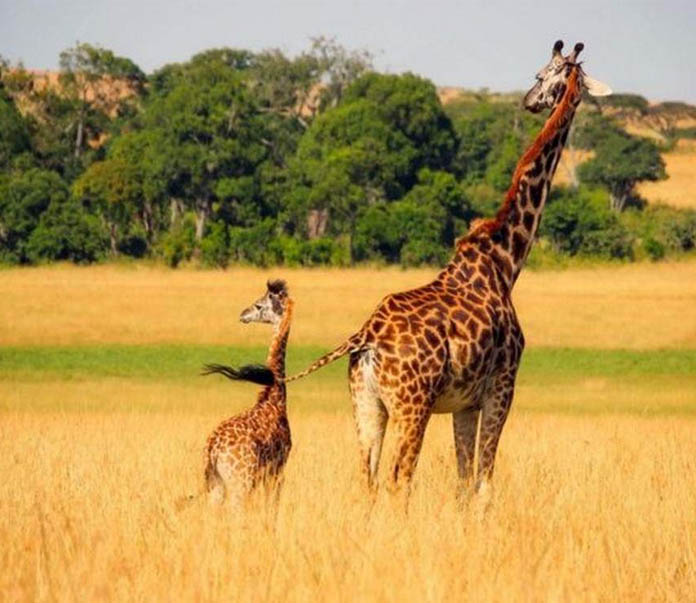Jirafa: (505, 20, 620, 255), (220, 256, 301, 348)
